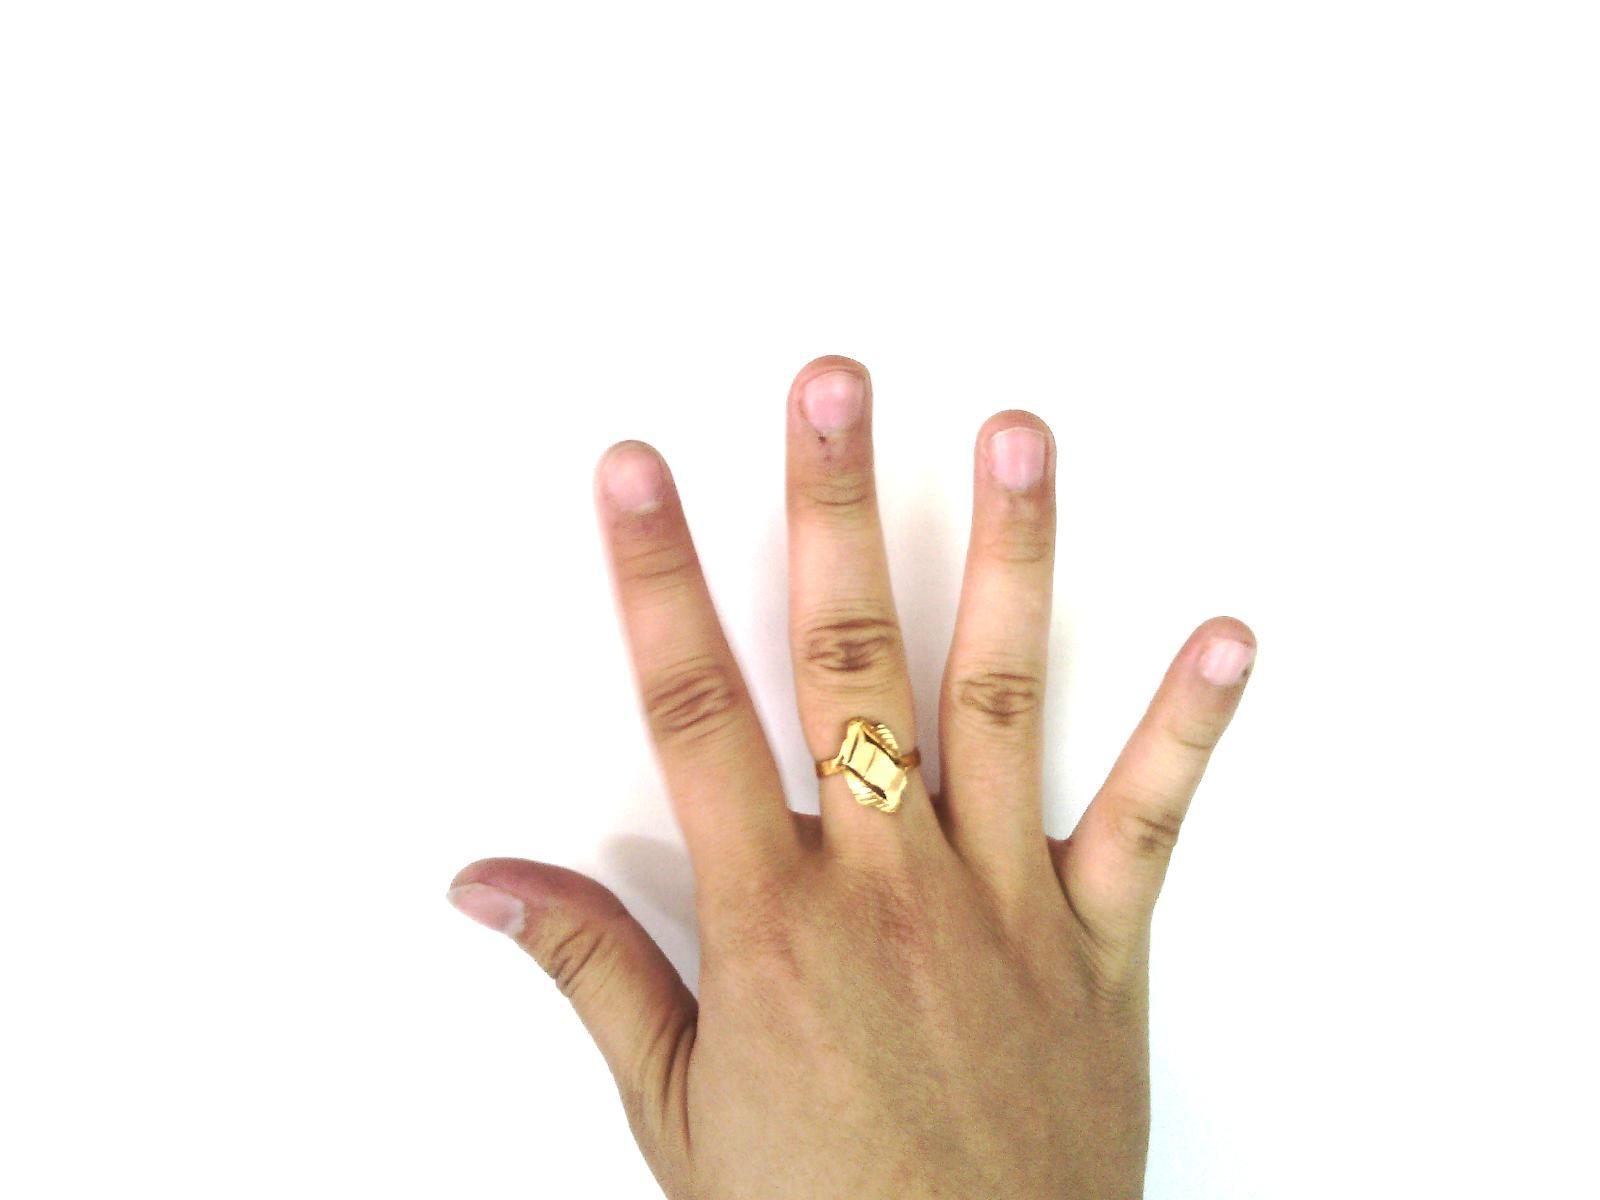hand: (445, 350, 1259, 1200)
